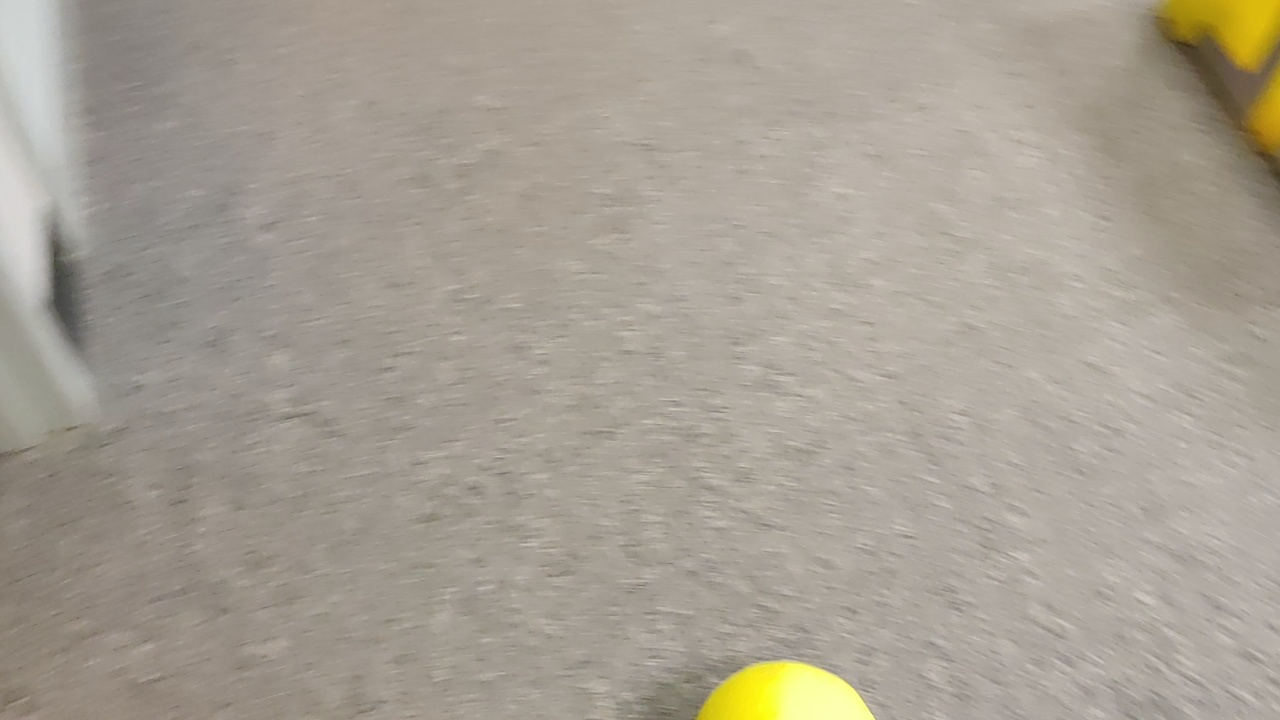Ball: (692, 659, 876, 720)
